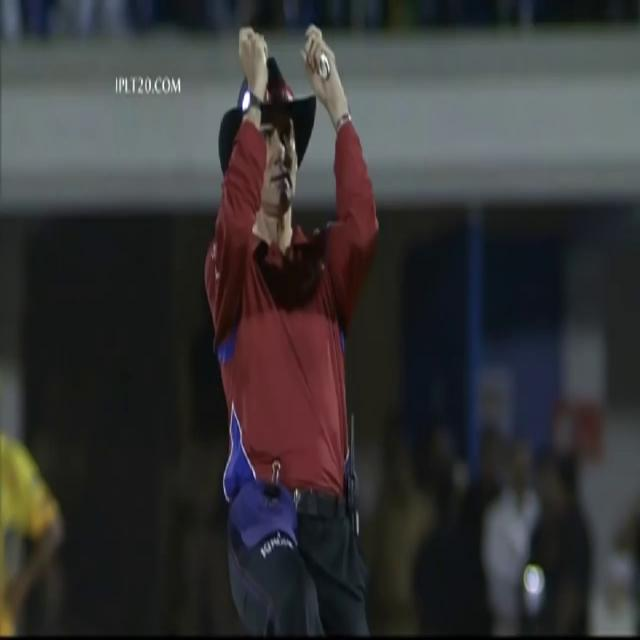Six: (192, 16, 392, 640)
